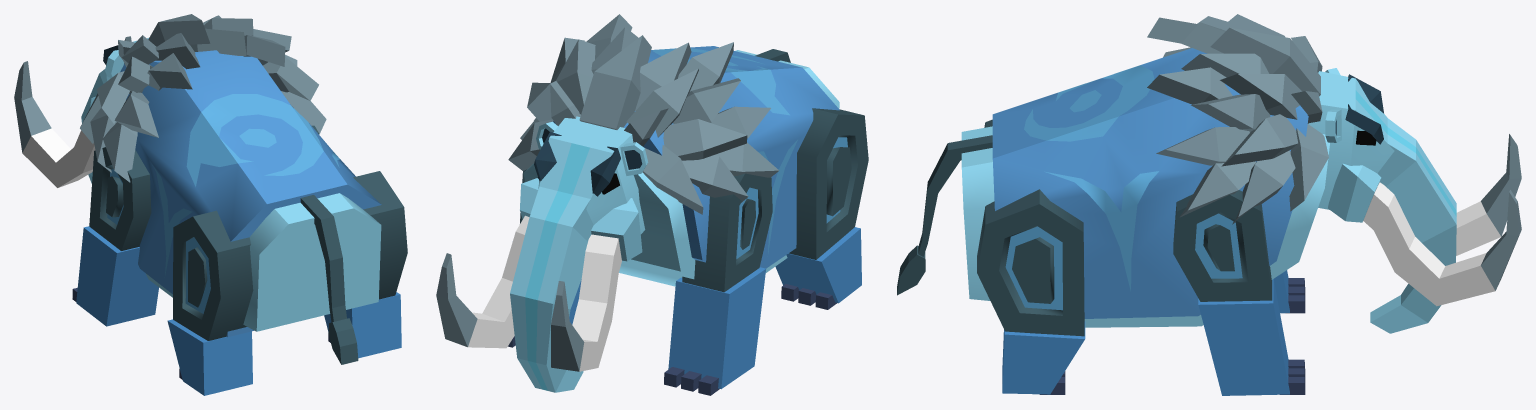
File: colossal_mammoth.obj
3 renders of one model, left to right at view 1: azimuth 30°, elevation 25°; view 2: azimuth 150°, elevation 25°; view 3: azimuth 270°, elevation 25°, orthographic. The views are drawn at different scales.
Parts seen in each view (by area): view 1: Torso, LeftLeg, LeftHand, Head, LeftArm, LeftFoot, Tail, RightLeg, RightFoot; view 2: Torso, Head, LeftHand, LeftLeg, LeftArm, LeftFoot; view 3: Torso, Head, RightLeg, RightArm, RightHand, RightFoot, Tail, LeftHand.
Part boxes in pixels (x1,y1,x2,y2): Torso: [80, 14, 381, 337]; LeftLeg: [173, 210, 253, 340]; LeftHand: [72, 226, 158, 326]; Head: [14, 36, 148, 187]; LeftArm: [89, 147, 151, 250]; LeftFoot: [167, 319, 252, 395]; Tail: [300, 195, 358, 364]; RightLeg: [353, 171, 407, 299]; RightFoot: [324, 292, 401, 358]; Torso: [508, 14, 839, 286]; Head: [436, 116, 648, 392]; LeftHand: [664, 267, 765, 395]; LeftLeg: [789, 108, 868, 259]; LeftArm: [682, 173, 772, 292]; LeftFoot: [775, 227, 861, 309]; Torso: [961, 14, 1329, 327]; Head: [1308, 68, 1521, 333]; RightLeg: [977, 189, 1084, 336]; RightArm: [1173, 190, 1272, 301]; RightHand: [1198, 279, 1305, 395]; RightFoot: [1002, 321, 1085, 394]; Tail: [897, 135, 992, 295]; LeftHand: [1273, 270, 1305, 313].
Bounding box in the file's own units: 13.93 × 17.59 × 31.62.
